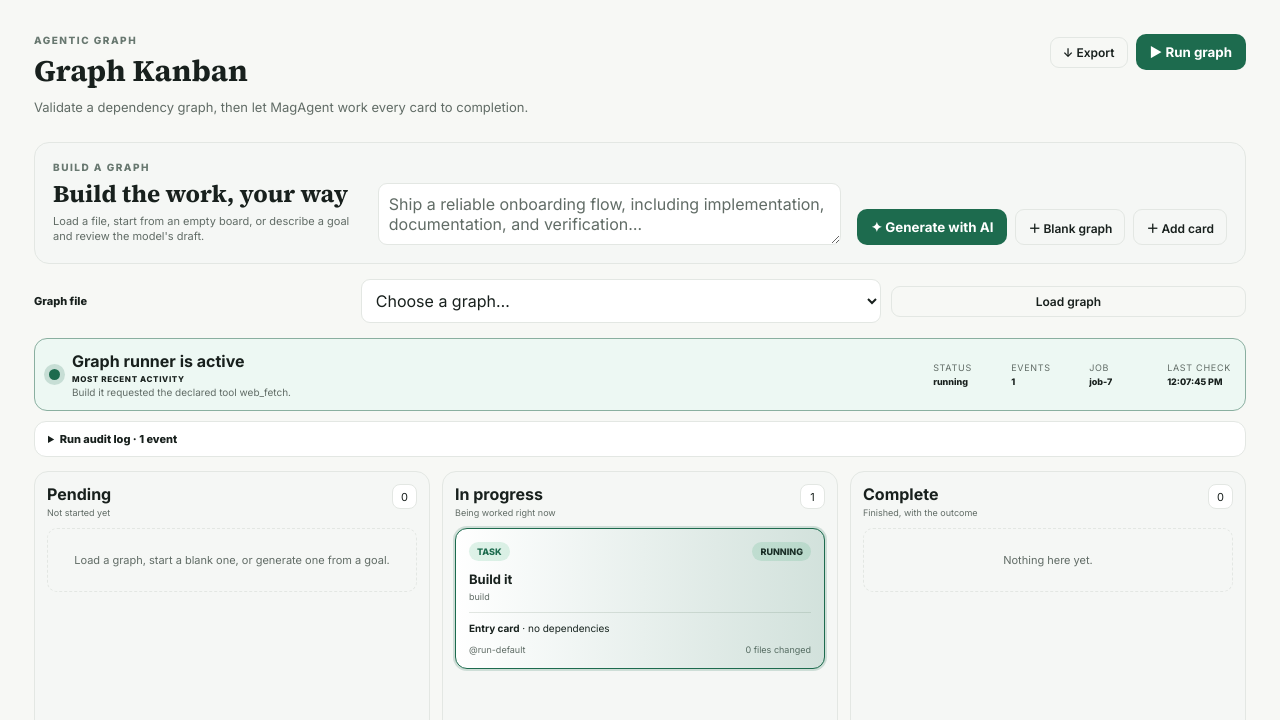
Test: GraphsView › reattaches to the active graph after navigating back
Expected: the text "Build it" is shown, [469, 571, 512, 587]
Expected: the text "RUNNING" is shown, [752, 542, 811, 561]
Step 1. Click the heading "Run audit log · 1 event" → (118, 439), box [60, 432, 177, 446]
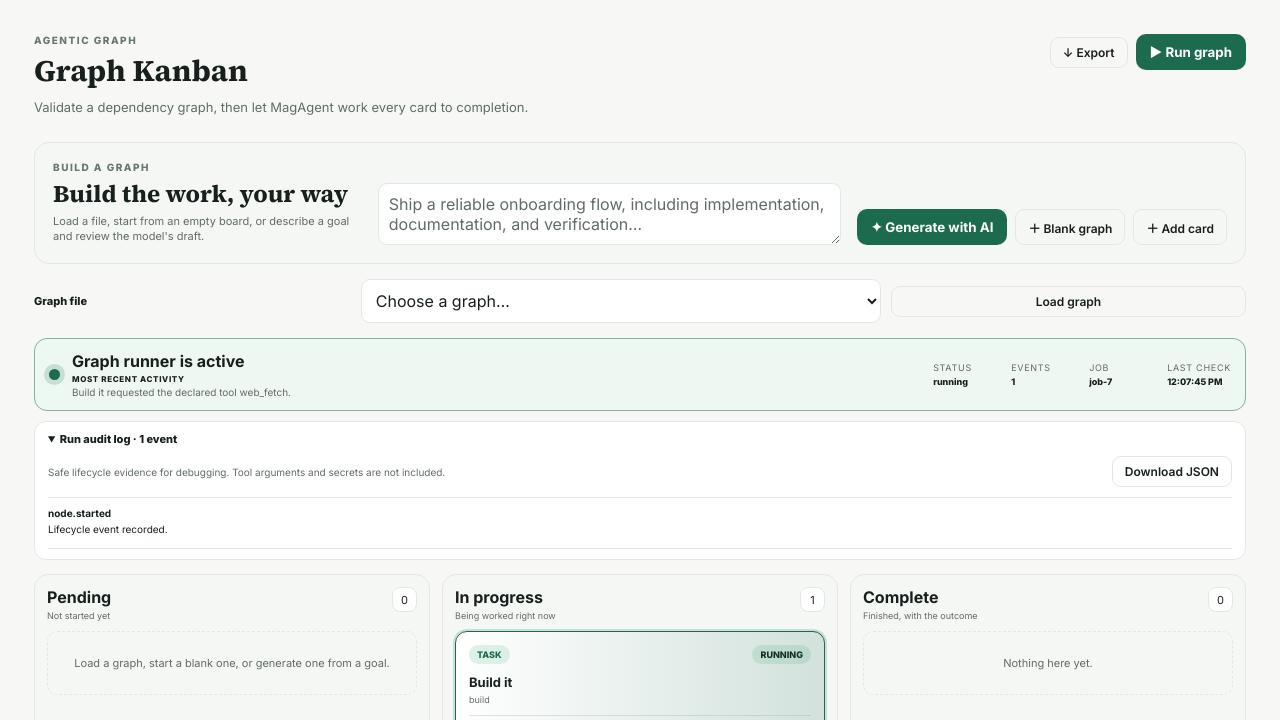
Now the text "node.started" is shown, box [48, 507, 111, 519]
Now the button "Download JSON" is shown, box [1112, 456, 1232, 487]
